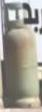cylinder: (1, 1, 42, 112)
